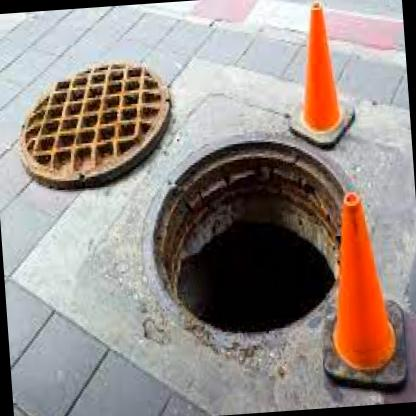manholes: (138, 121, 363, 350)
